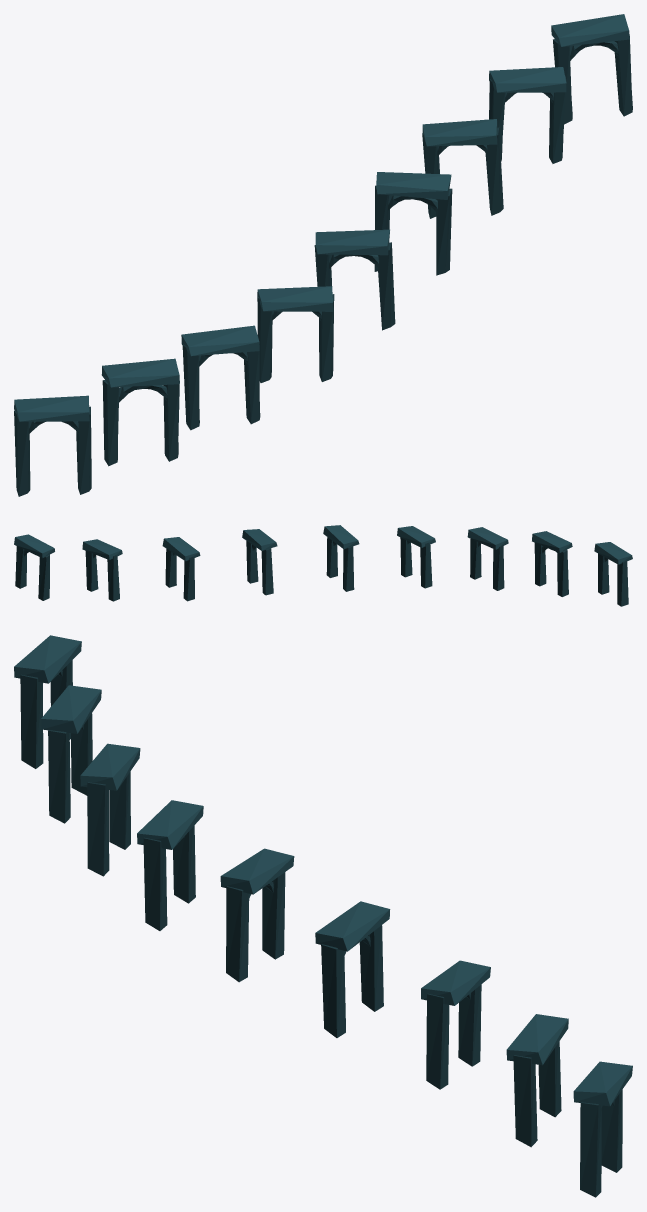
Rendered from southpoint-broken-viaduct-v1.glb.
3 views of the same model, one above another, from view 1: azimuth 30°, elevation 25°; view 2: azimuth 150°, elevation 25°; view 3: azimuth 270°, elevation 25° (orthographic). The views are drawn at different scales.
Visible parts, largest first — view 1: Deck (×9), Far pier (×9), Near pier (×6); view 2: Deck (×9), Near pier (×9), Far pier (×9); view 3: Far pier (×9), Deck (×9), Near pier (×8).
Boxes of the visible parts, x1,y1,x2,y2 form: Deck (×9): (14,14,629,421); Far pier (×9): (76,36,632,494); Near pier (×6): (14,39,572,496); Deck (×9): (14,525,632,564); Near pier (×9): (38,542,628,606); Far pier (×9): (15,537,609,594); Far pier (×9): (20,674,601,1197); Deck (×9): (14,635,632,1106); Near pier (×8): (71,713,622,1172).
Size of the model in its own units: 103 by 10.95 by 57.83.
